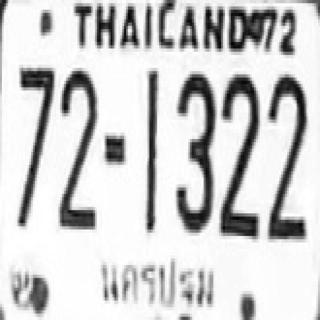N01: (144, 68, 158, 233)
N02: (266, 76, 306, 238), (218, 78, 259, 236), (58, 66, 97, 228), (266, 71, 306, 226), (219, 71, 258, 226)
N03: (175, 71, 213, 230)
N07: (15, 65, 53, 226)
P28: (95, 246, 217, 320)
